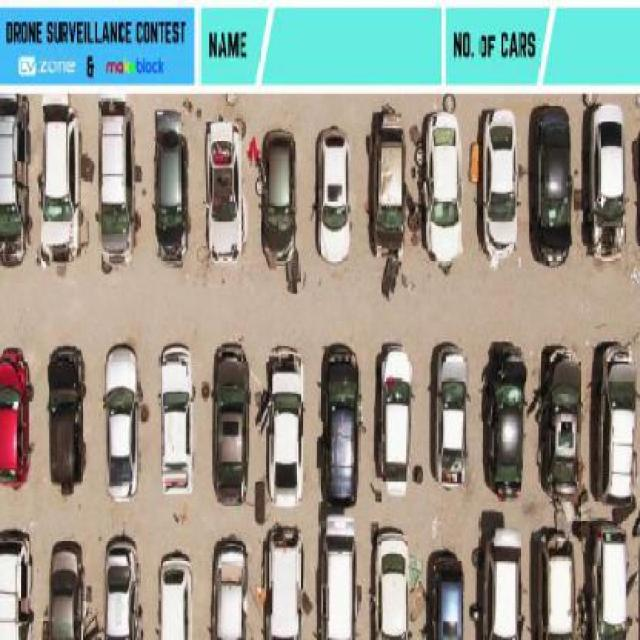car: (207, 341, 252, 508), (530, 99, 574, 265), (587, 101, 632, 262), (537, 346, 582, 500), (321, 343, 364, 504), (103, 343, 145, 506), (98, 97, 139, 261), (483, 346, 526, 500), (38, 102, 78, 267), (601, 341, 640, 510), (479, 104, 521, 260), (45, 341, 89, 488), (158, 344, 198, 504), (203, 117, 245, 269), (154, 108, 194, 266), (423, 107, 463, 265), (267, 346, 305, 508), (377, 344, 416, 500), (366, 110, 404, 263), (317, 507, 360, 640), (430, 343, 468, 491), (592, 517, 638, 639), (260, 521, 306, 639), (260, 130, 299, 268), (316, 126, 353, 262), (536, 523, 578, 640), (0, 346, 35, 486), (369, 521, 409, 640), (0, 92, 27, 264), (483, 523, 522, 640), (207, 533, 249, 639), (103, 533, 143, 640), (45, 537, 86, 639), (424, 547, 464, 640), (157, 548, 197, 639), (0, 526, 31, 640), (633, 101, 640, 261)
